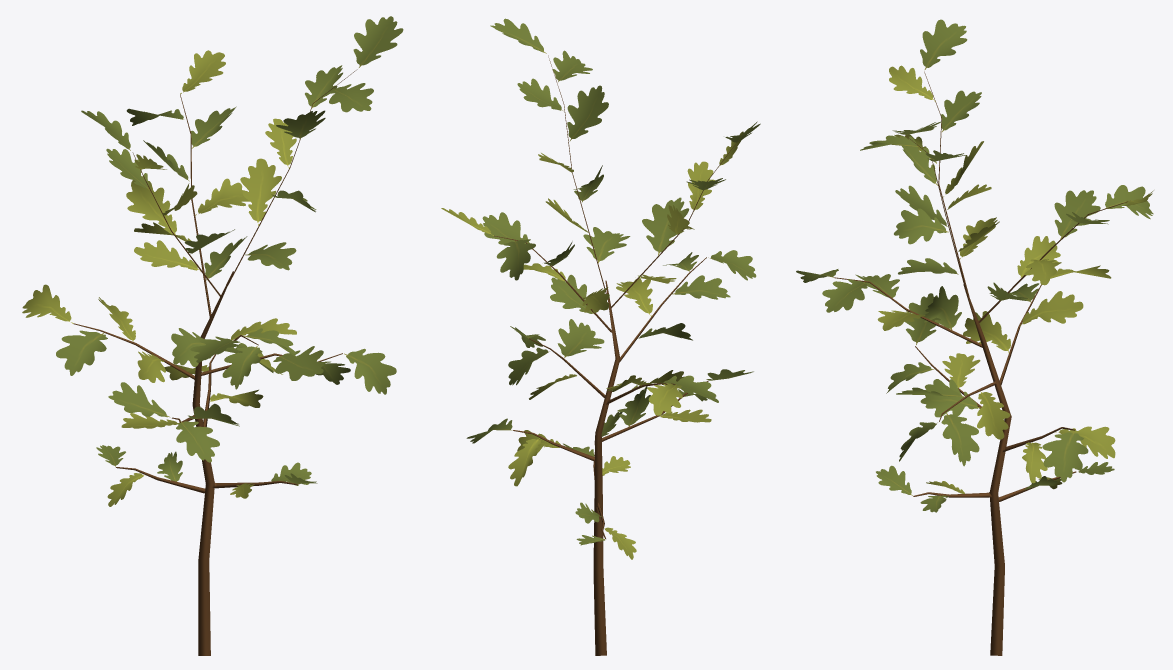
File: Young_Oak_Tree_1.fbx
The picture shows the model from 3 angles, left to right: view 1: azimuth 30°, elevation 25°; view 2: azimuth 150°, elevation 25°; view 3: azimuth 270°, elevation 25°; orthographic projection. The views are drawn at different scales.
Parts seen in each view (by area): view 1: Young_Oak_Tree_1; view 2: Young_Oak_Tree_1; view 3: Young_Oak_Tree_1.
Boxes of the visible parts, x1=… form: Young_Oak_Tree_1: x1=22, y1=16, x2=403, y2=655; Young_Oak_Tree_1: x1=441, y1=18, x2=760, y2=655; Young_Oak_Tree_1: x1=796, y1=19, x2=1153, y2=655.
Size of the model in its own units: 123 by 243 by 135.
2 materials, 2 textured.
